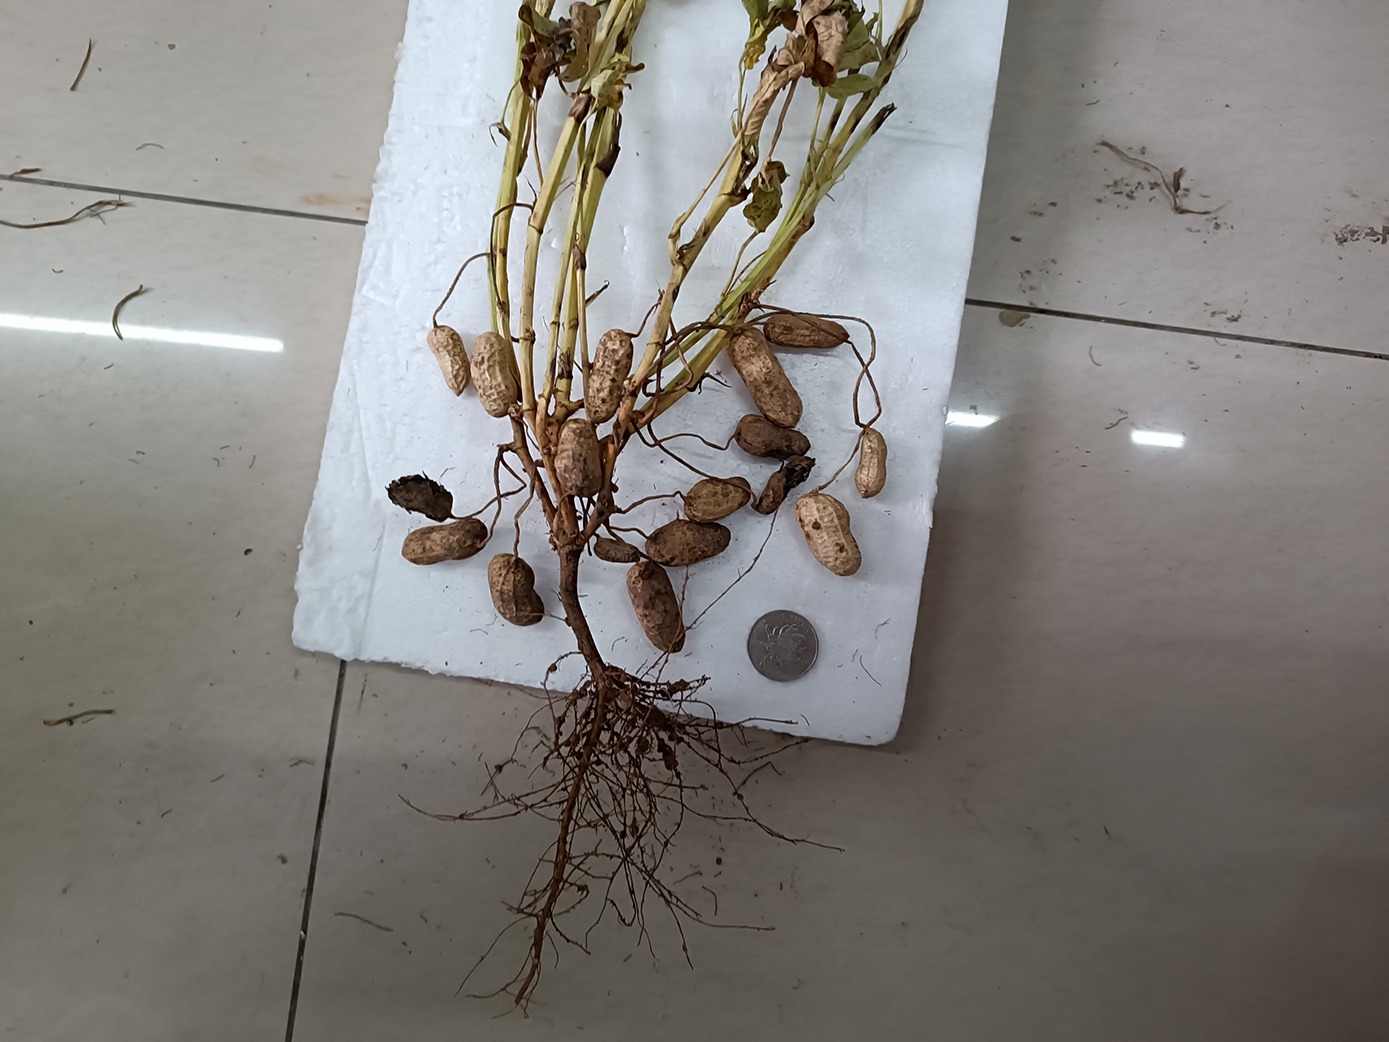h: (728, 325, 802, 429), (795, 493, 863, 576), (470, 332, 519, 419), (487, 553, 545, 626), (553, 418, 603, 496), (683, 476, 752, 522), (426, 325, 470, 397), (855, 428, 888, 499)
l: (626, 561, 685, 653), (584, 329, 634, 425), (400, 517, 488, 565), (644, 519, 732, 567), (751, 456, 817, 514), (385, 470, 453, 523), (736, 414, 812, 458), (763, 314, 850, 349), (593, 537, 640, 563)
